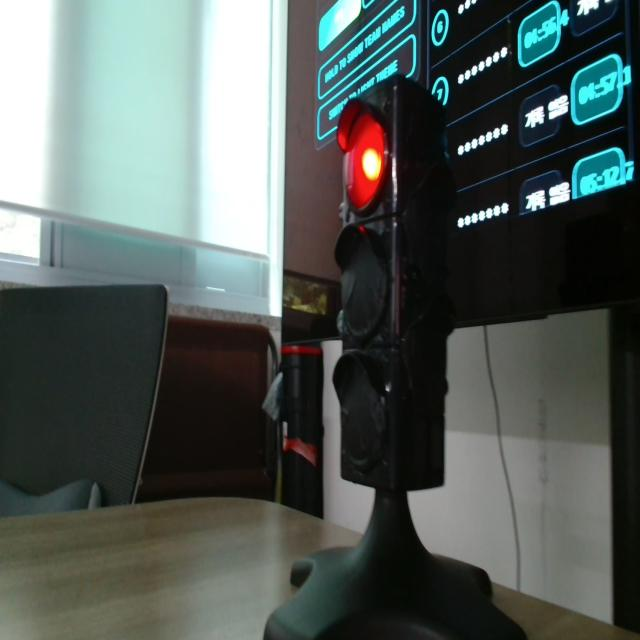red_light: (344, 112, 385, 210)
